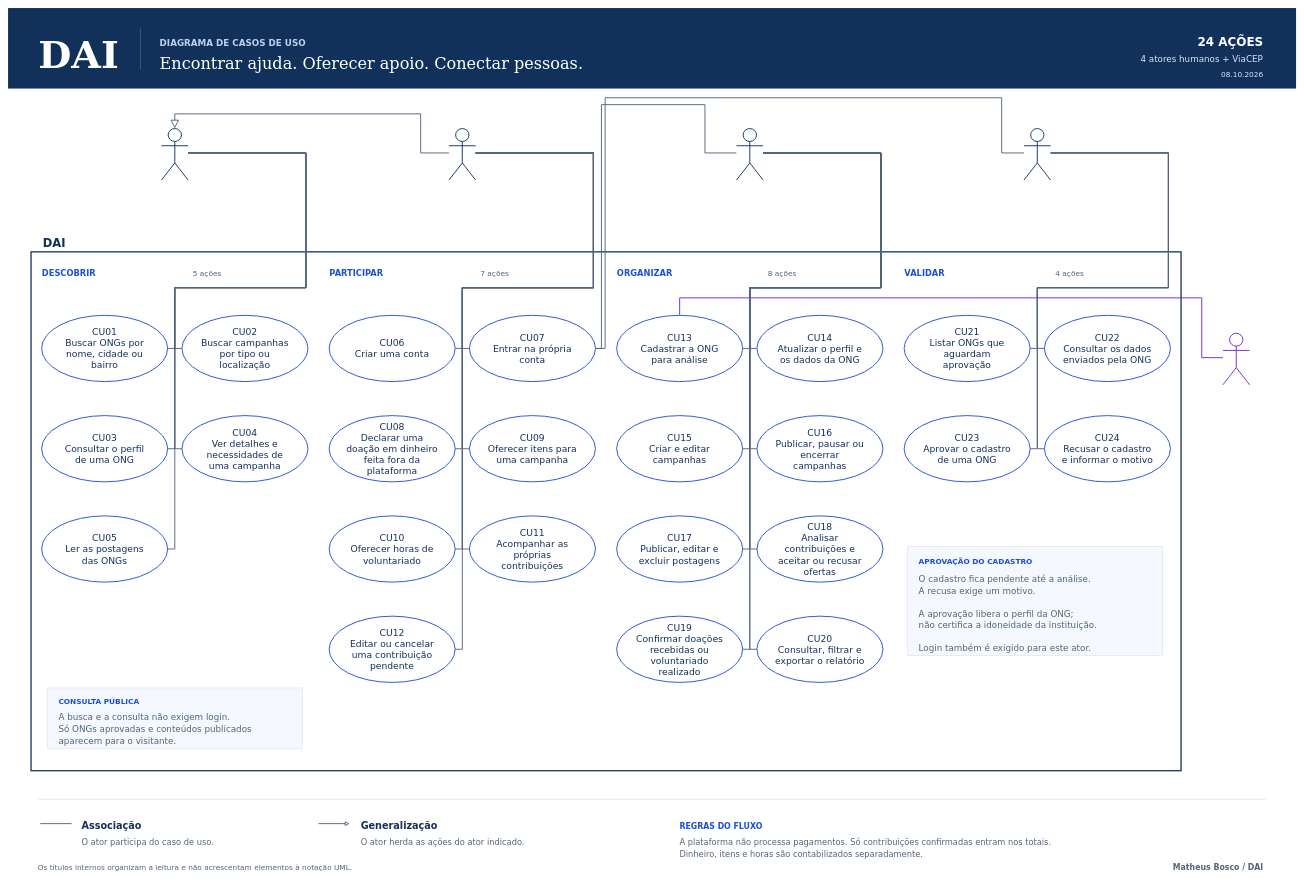
The diagram is 1304 pixels wide and 890 high, and some of its shapes have lost their labels. The shapes that lost their labels are listed below. From the top down, each one's box as (x1, y1, x2, y2) in pixels, then its label:
(161, 128, 188, 180): Visitante
(448, 128, 476, 180): Doador / voluntário
(736, 128, 763, 180): Responsável pela ONG
(1023, 128, 1051, 180): Administrador
(1222, 333, 1250, 385): ViaCEP «externo»
